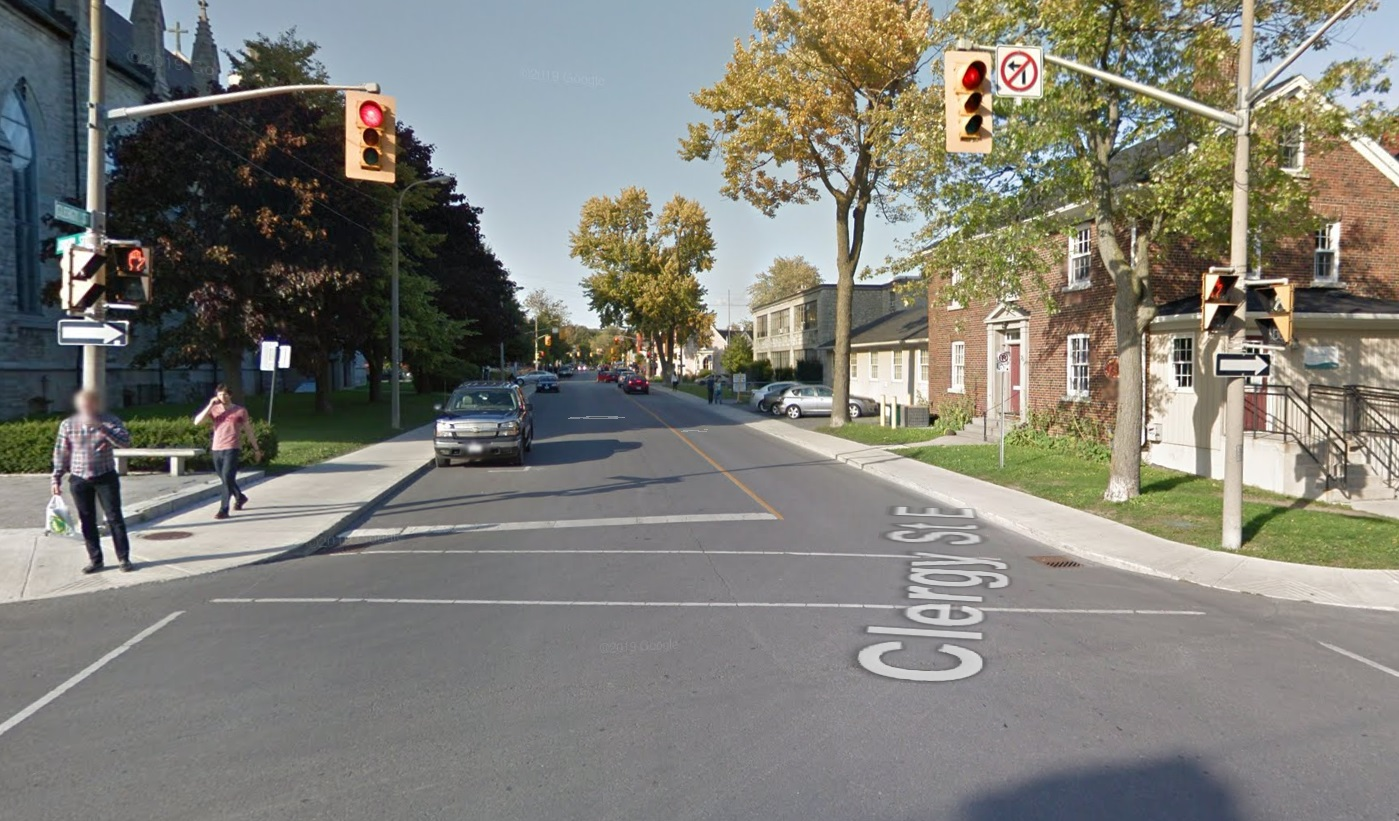sign_oneway_right: (57, 316, 129, 345), (1212, 349, 1270, 379)
